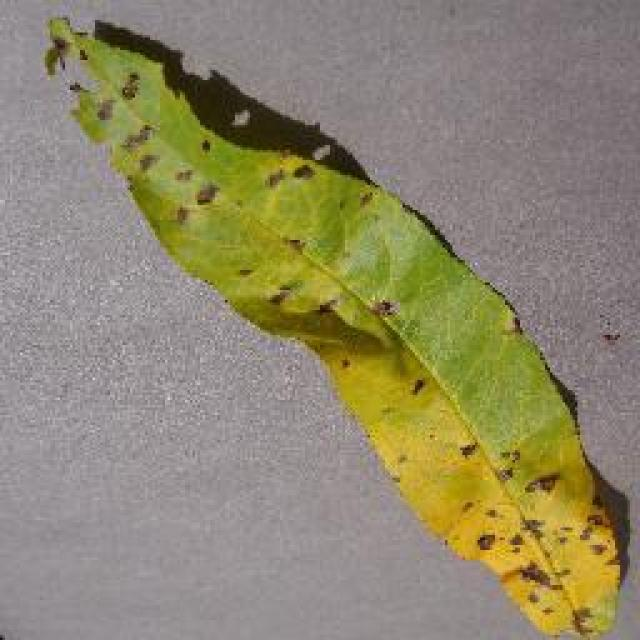Peach_Bacterial_Spot: (91, 63, 496, 497)
